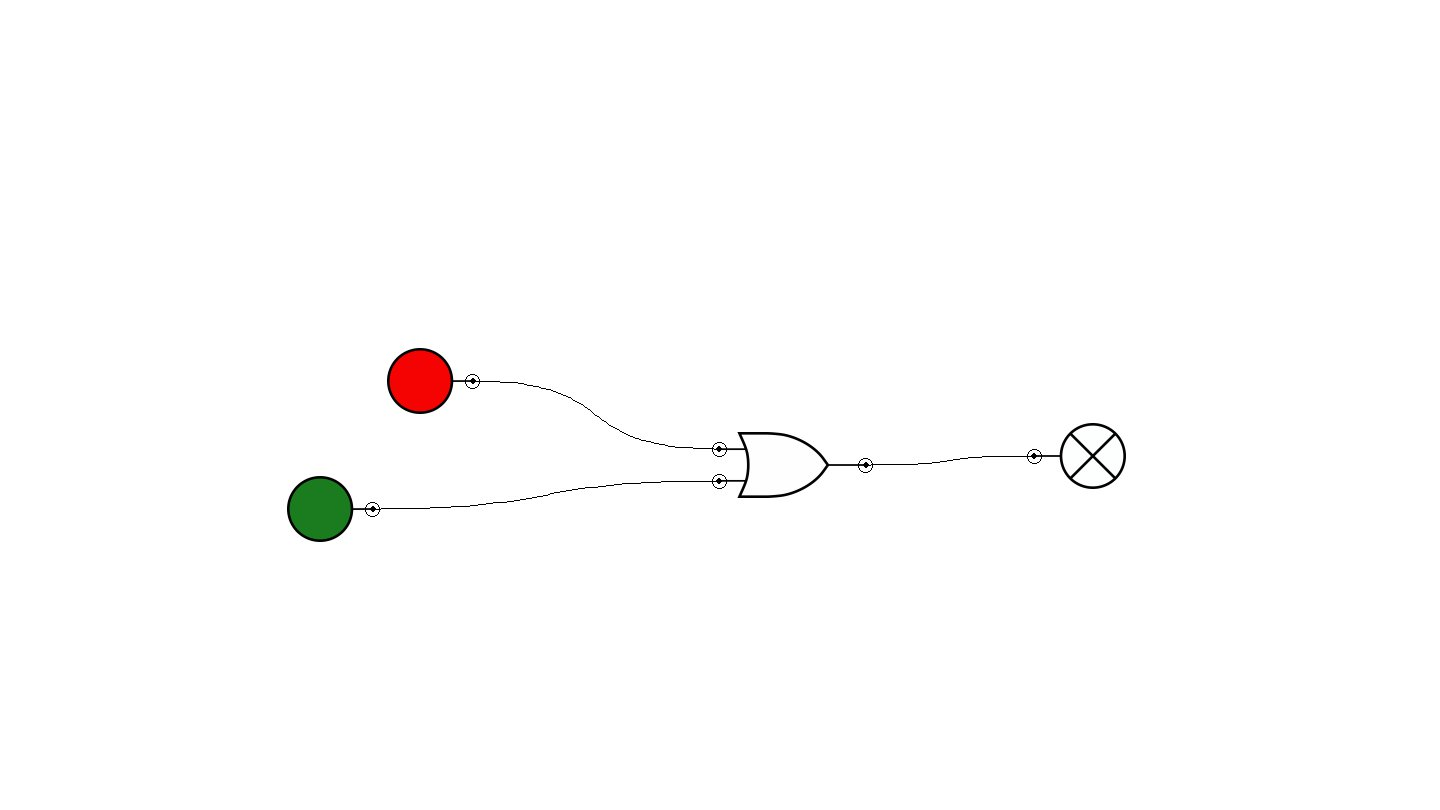bulb: (1027, 423, 1126, 489)
or: (712, 432, 873, 498)
switch_False: (387, 348, 480, 414)
switch_True: (287, 476, 380, 542)
